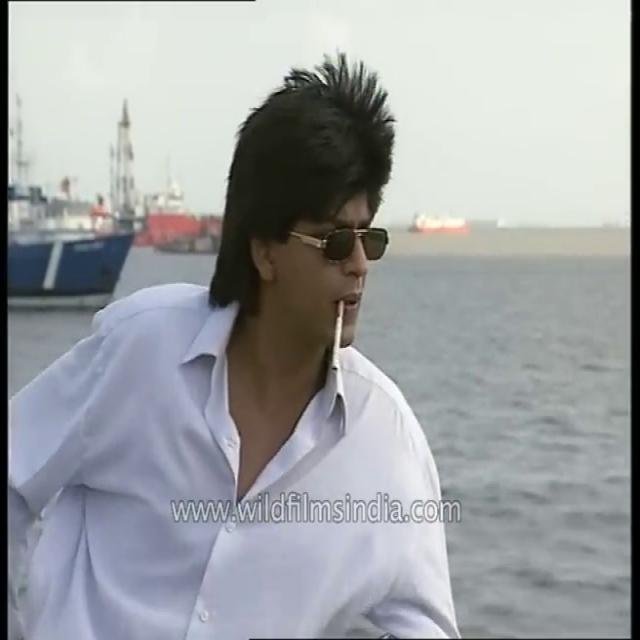Smooking: (327, 283, 351, 391)
